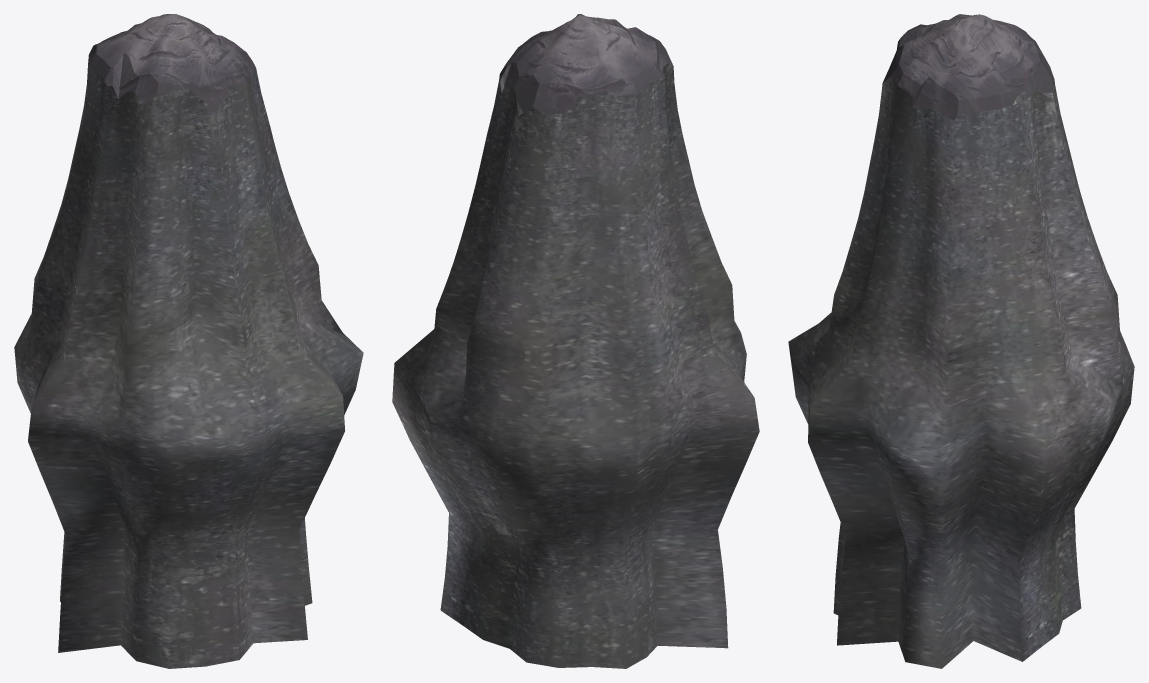
3 views of the same model, side by side, from view 1: azimuth 30°, elevation 25°; view 2: azimuth 150°, elevation 25°; view 3: azimuth 270°, elevation 25° (orthographic). The views are drawn at different scales.
Parts seen in each view (by area): view 1: SM_FH_Ash_Tree_03_stump_LOD0; view 2: SM_FH_Ash_Tree_03_stump_LOD0; view 3: SM_FH_Ash_Tree_03_stump_LOD0.
Boxes of the visible parts, box(x1,y1,x2,y2) form: SM_FH_Ash_Tree_03_stump_LOD0: box(14, 14, 363, 668); SM_FH_Ash_Tree_03_stump_LOD0: box(392, 14, 759, 668); SM_FH_Ash_Tree_03_stump_LOD0: box(788, 14, 1134, 668).
Bounding box in the file's own units: 1.29 × 2.29 × 1.2.
Materials: 1 (1 with a texture image).
